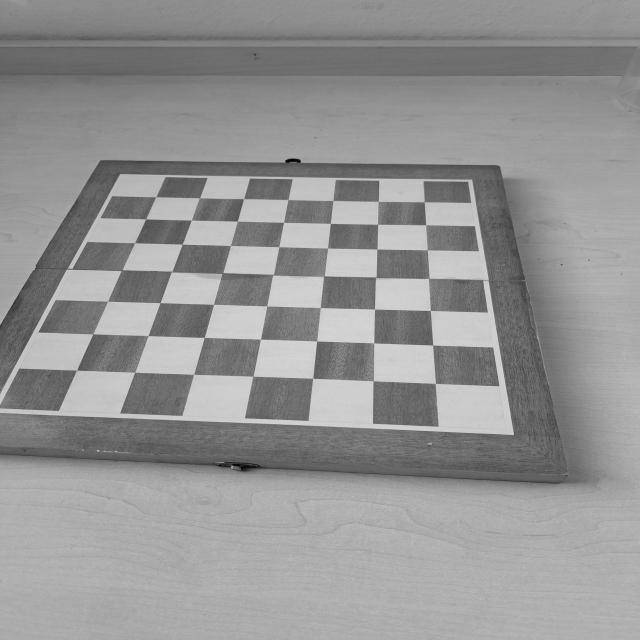chess-table-corners: (490, 418, 521, 441), (458, 174, 478, 190), (114, 170, 132, 183)
